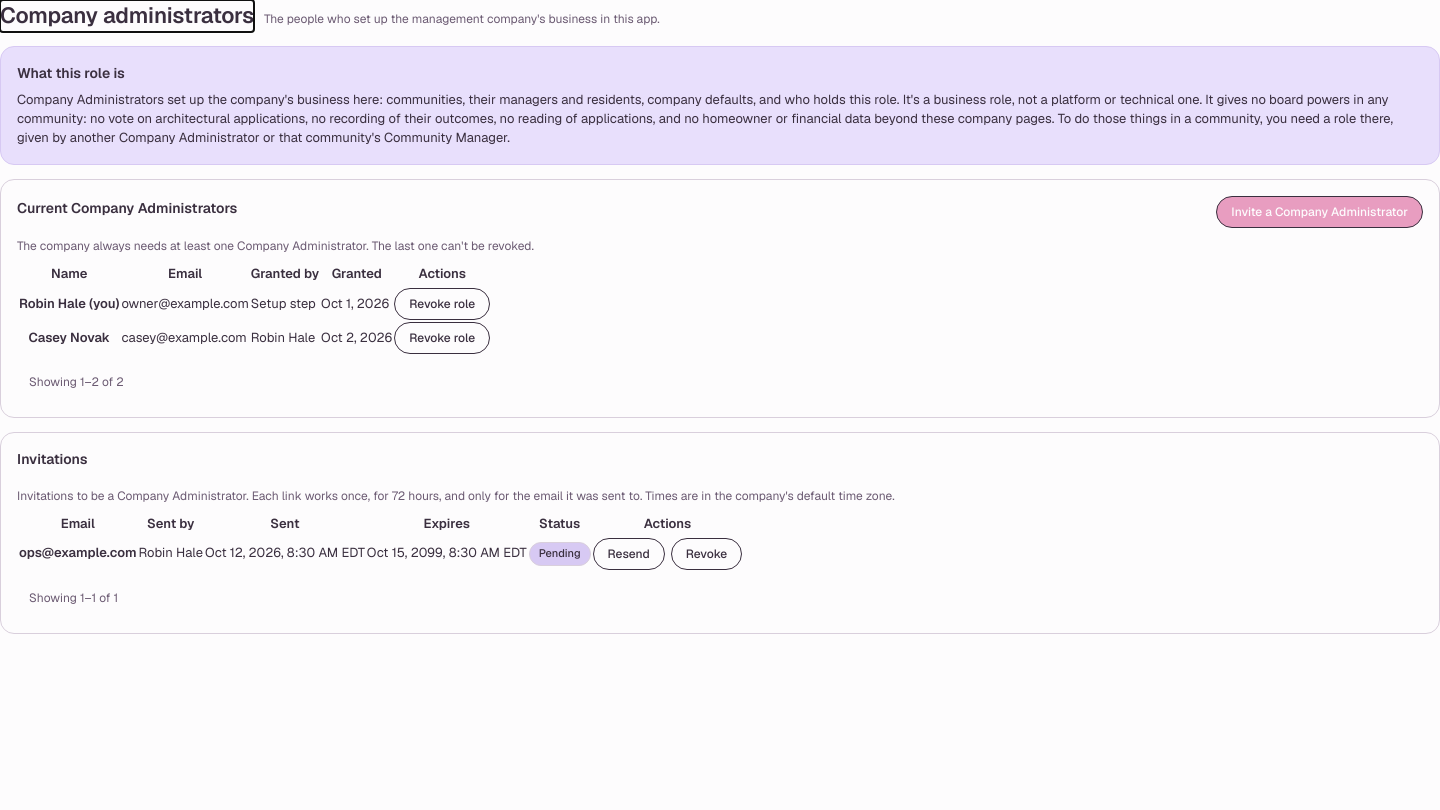
Scenario: CompanyAdministratorsComponent (030 T137) › the lists › Revoke on an invitation asks first (8.09.f)
Click the button with aria-label "Revoke invitation to ops@example.com" at coordinates (706, 554), box [671,538,742,570]
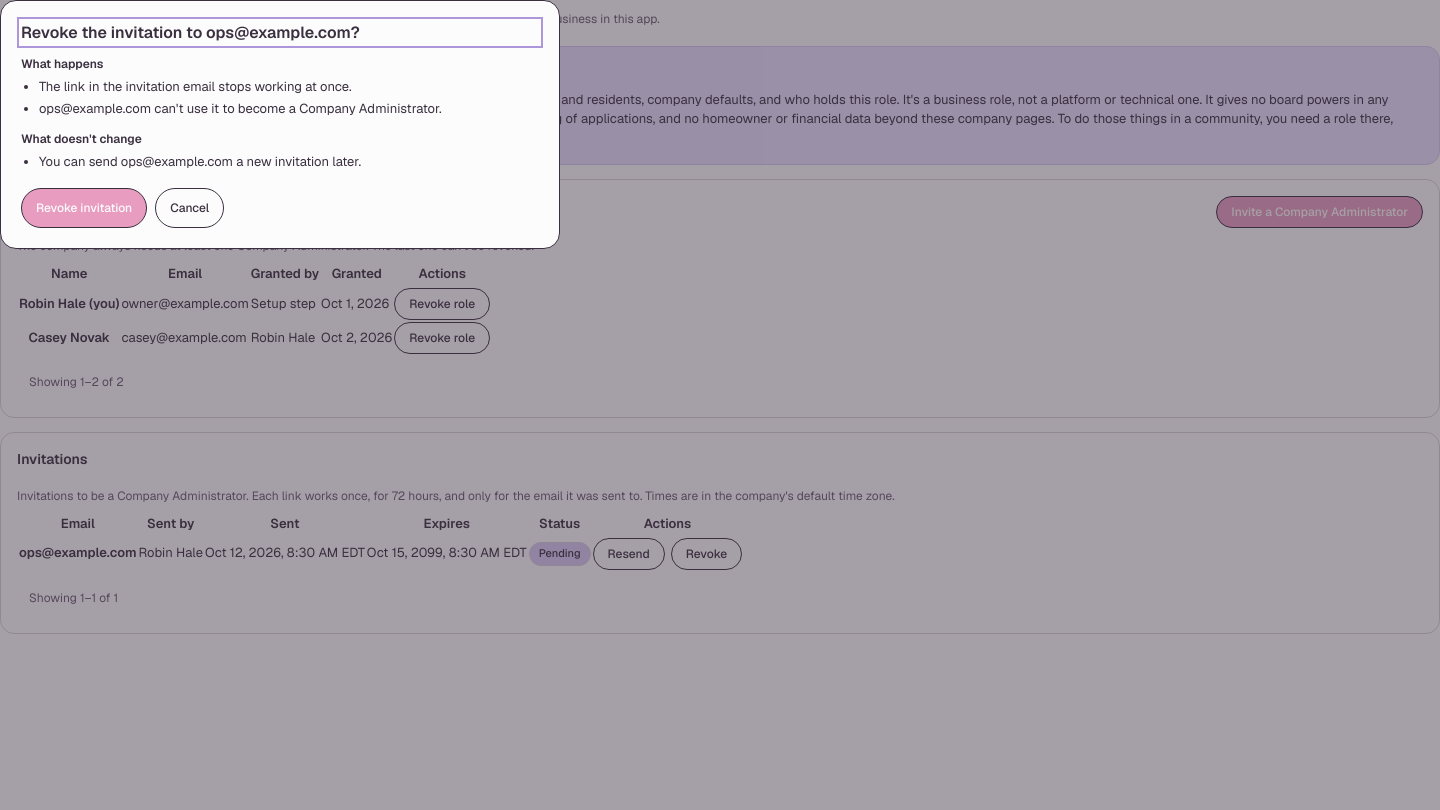
Expected: the dialog "Revoke the invitation to ops@example.com?" shows "The link in the invitation email stops working at once.", [39,78,352,95]
Expected: the dialog "Revoke the invitation to ops@example.com?" shows "ops@example.com can't use it to become a Company Administrator.", [39,100,442,117]
Expected: the dialog "Revoke the invitation to ops@example.com?" shows "You can send ops@example.com a new invitation later.", [39,153,361,170]
Click the button "Revoke invitation" at coordinates (84, 208), box [21,188,147,228]
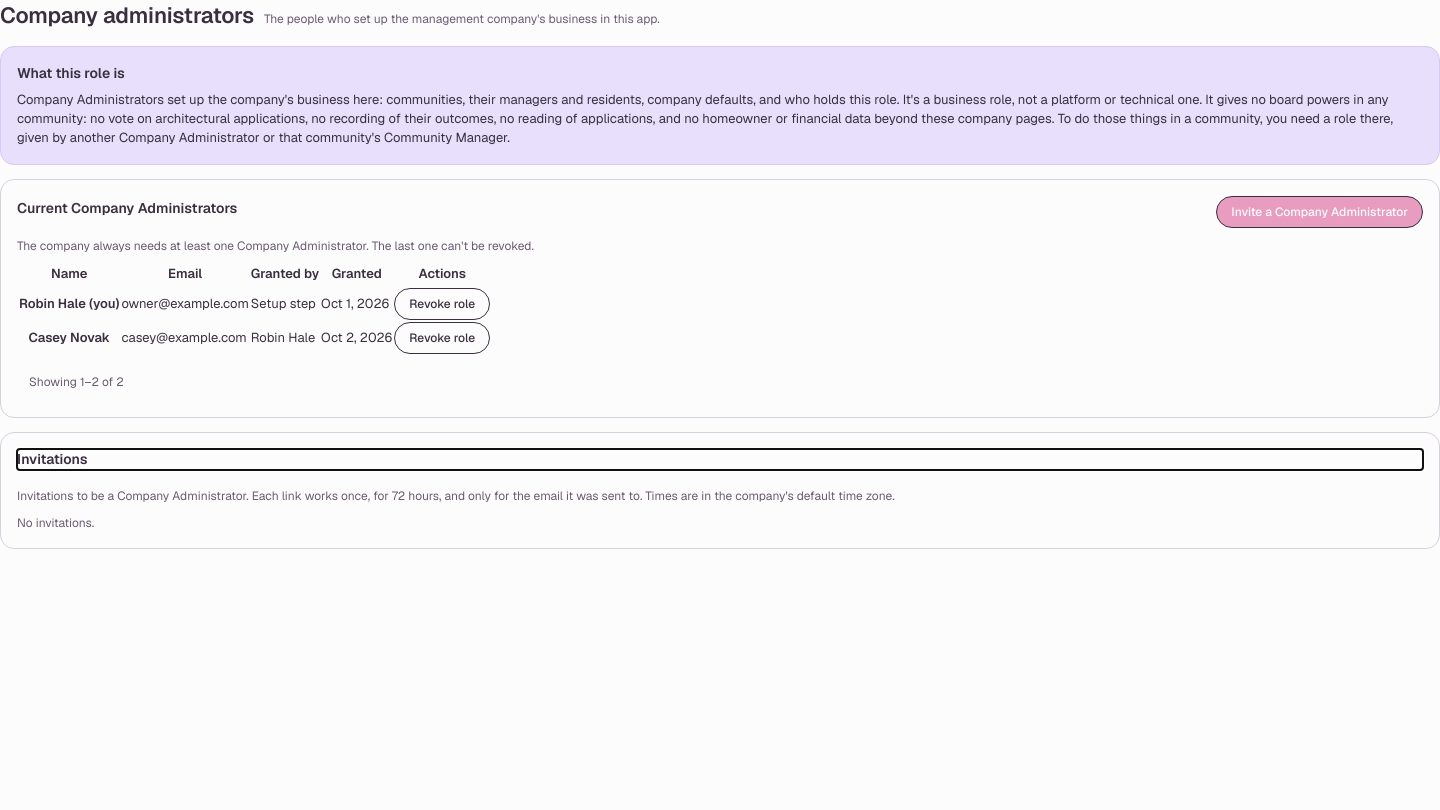
Expected: the text "No invitations." is shown, [17,515,94,531]
